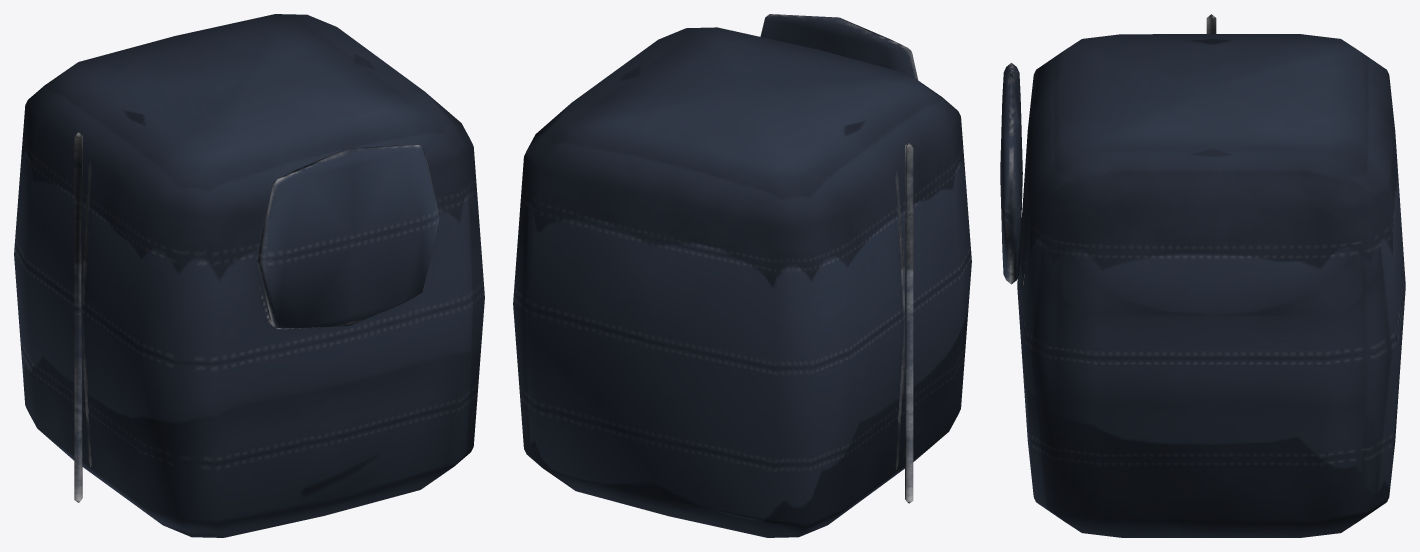
Rendered from Maton_PantalonAbajoDer.fbx.
The picture shows the model from 3 angles, left to right: view 1: azimuth 30°, elevation 25°; view 2: azimuth 150°, elevation 25°; view 3: azimuth 270°, elevation 25°; orthographic projection. The views are drawn at different scales.
Parts seen in each view (by area): view 1: Maton_PantalonAbajoDer; view 2: Maton_PantalonAbajoDer; view 3: Maton_PantalonAbajoDer.
Part boxes in pixels (x1,y1,x2,y2): Maton_PantalonAbajoDer: (14,14,484,537); Maton_PantalonAbajoDer: (513,14,971,537); Maton_PantalonAbajoDer: (1000,14,1405,537).
Size of the model in its own units: 1.26 by 1.39 by 1.28.
